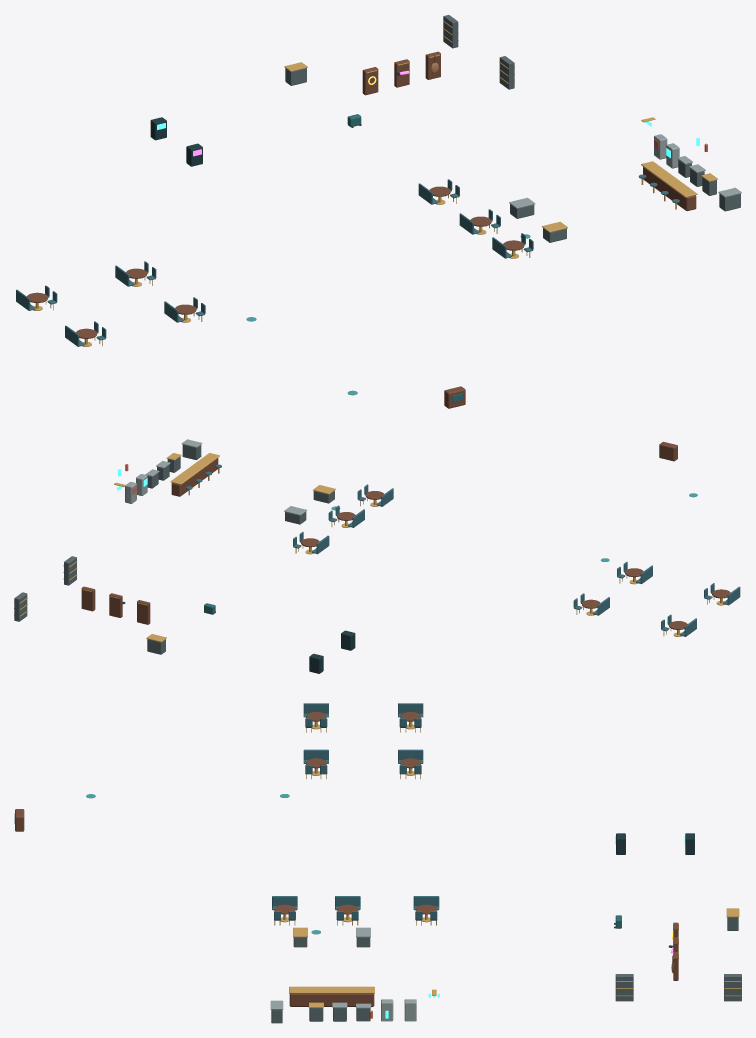
Rendered from bar_interactables.glb.
3 renders of one model, top to bottom at view 1: azimuth 30°, elevation 25°; view 2: azimuth 150°, elevation 25°; view 3: azimuth 270°, elevation 25°, orthographic. The views are drawn at different scales.
Parts seen in each view (by area): view 1: VIS_WaterBar_Base; view 2: VIS_WaterBar_Base, VIS_WaterBar_Top; view 3: VIS_WaterBar_Base, VIS_WaterBar_Top.
Part boxes in pixels (x1=…): VIS_WaterBar_Base: x1=643, y1=167, x2=696, y2=211; VIS_WaterBar_Base: x1=171, y1=458, x2=218, y2=496; VIS_WaterBar_Top: x1=170, y1=453, x2=219, y2=484; VIS_WaterBar_Base: x1=289, y1=993, x2=374, y2=1006; VIS_WaterBar_Top: x1=289, y1=986, x2=374, y2=993.
Size of the model in its own units: 47.02 by 1.93 by 46.28.
